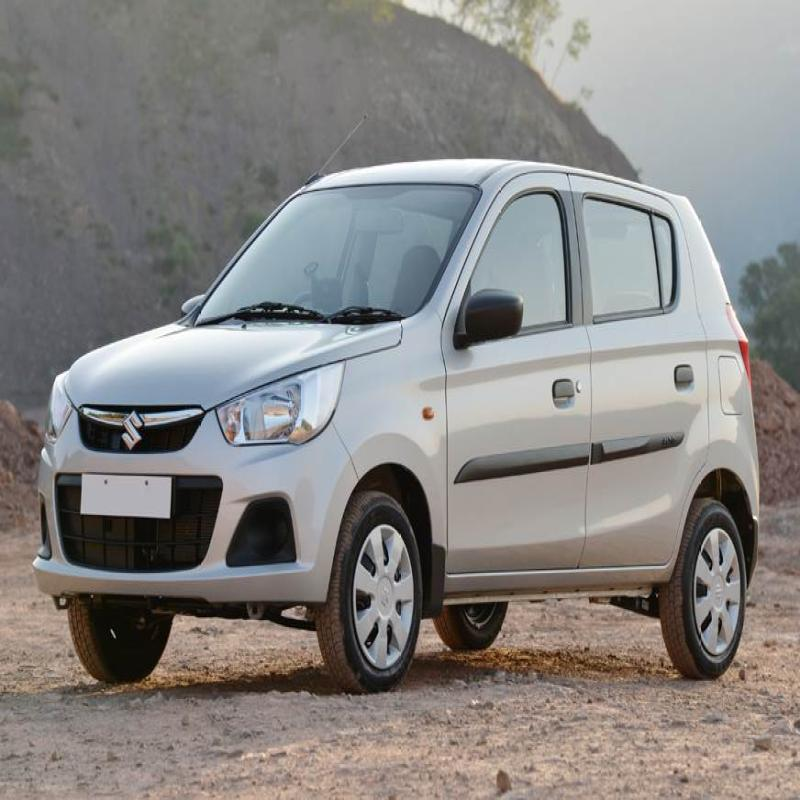car: (25, 113, 750, 686)
